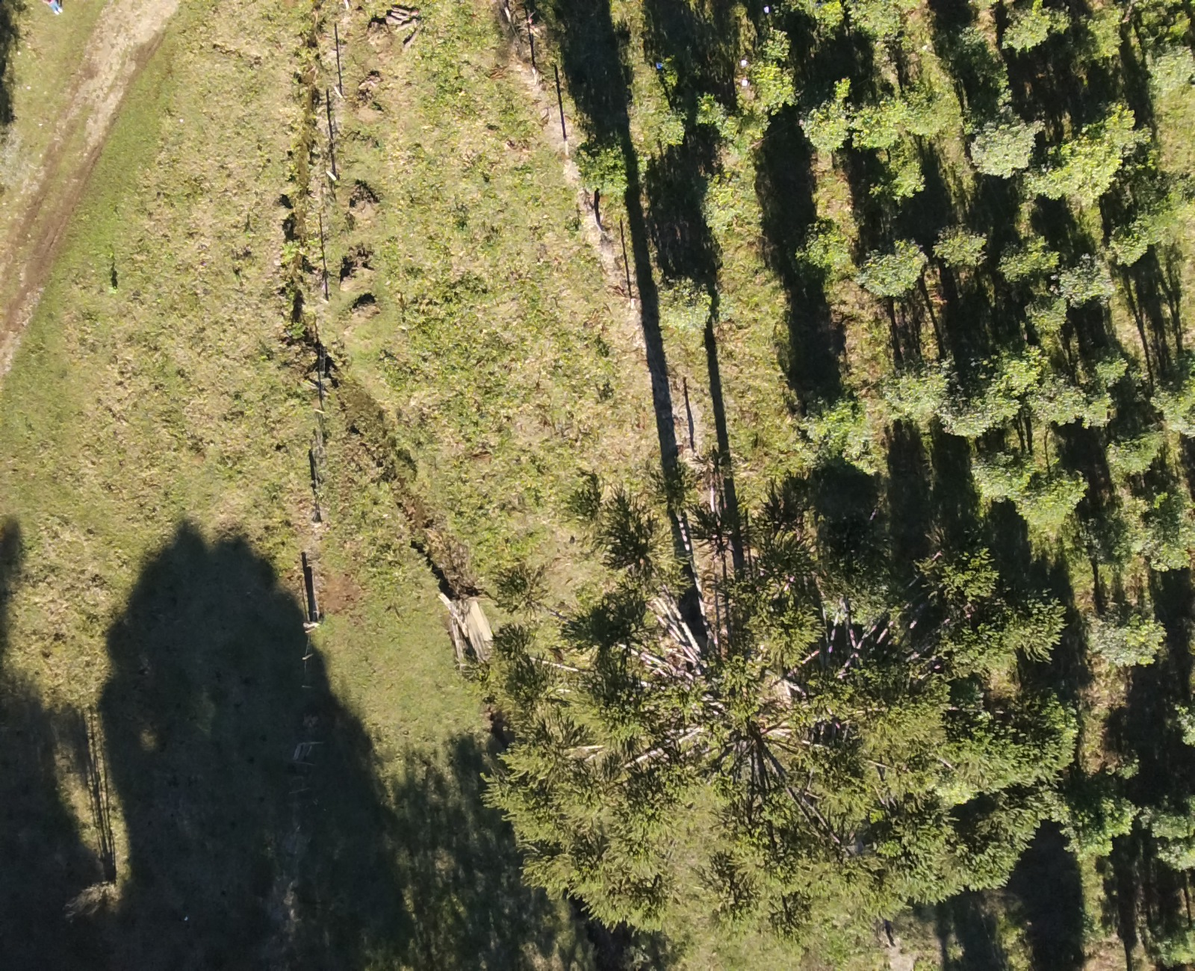erva: (962, 110, 1028, 181), (855, 239, 921, 303), (662, 268, 729, 329), (1097, 425, 1161, 486), (568, 136, 633, 196), (881, 362, 940, 426), (1081, 597, 1132, 666), (966, 450, 1025, 507), (932, 220, 994, 274), (785, 221, 844, 276), (1028, 385, 1092, 434), (1070, 131, 1129, 183), (1128, 603, 1179, 663), (803, 102, 854, 161), (1058, 256, 1118, 305), (1142, 43, 1194, 98), (1019, 478, 1078, 526), (817, 392, 868, 447), (1145, 378, 1194, 435), (839, 96, 899, 142), (693, 177, 754, 220), (940, 389, 993, 438), (1016, 297, 1075, 337), (1000, 4, 1057, 45), (1156, 520, 1194, 577), (750, 68, 799, 112), (875, 153, 925, 196), (746, 18, 798, 59), (1035, 155, 1078, 204), (999, 237, 1047, 280), (1106, 225, 1149, 268), (1114, 515, 1153, 561), (997, 344, 1034, 391), (859, 0, 905, 37), (1087, 4, 1119, 55), (813, 0, 850, 43), (1076, 385, 1114, 421), (648, 108, 680, 150), (1094, 358, 1132, 393), (694, 85, 725, 125), (722, 117, 752, 142)
